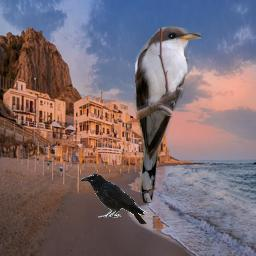Crow: (80, 173, 147, 225)
Cuckoo: (133, 25, 201, 203)
